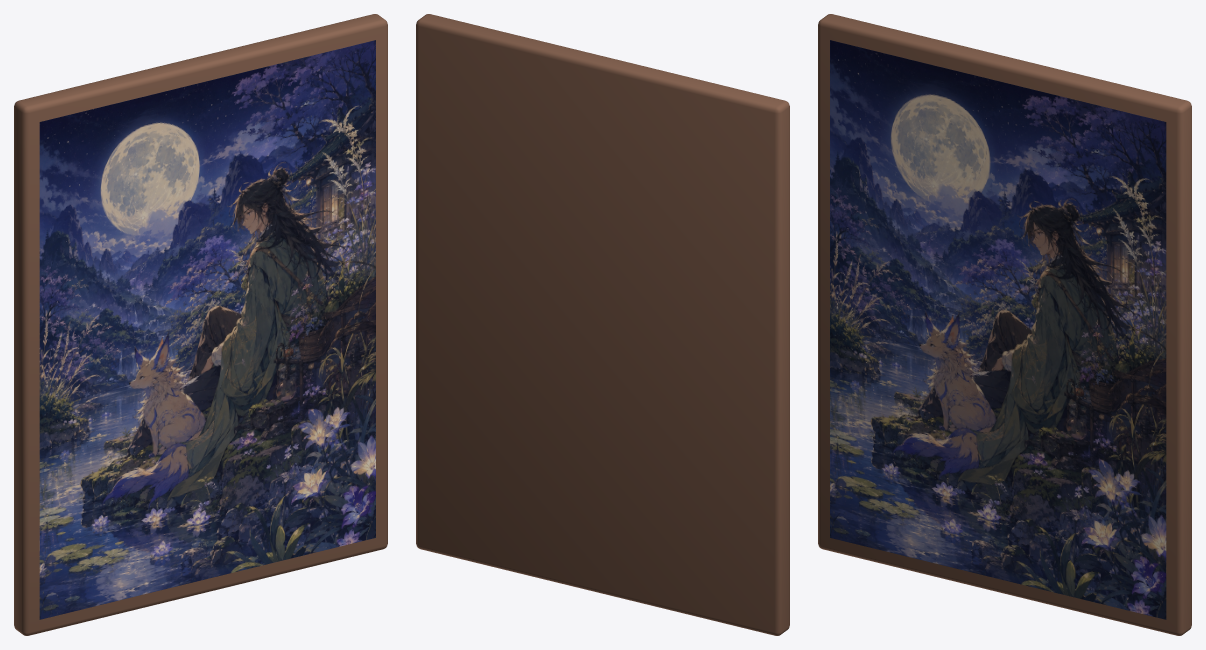
The model's file is anime-moon-garden.glb.
3 renders of one model, left to right at view 1: azimuth 30°, elevation 25°; view 2: azimuth 150°, elevation 25°; view 3: azimuth 330°, elevation 25°, orthographic.
Parts seen in each view (by area): view 1: anime-moon-garden; view 2: anime-moon-garden; view 3: anime-moon-garden.
Part boxes in pixels (left/top/right/bottom): anime-moon-garden: left=14, top=14, right=387, bottom=635; anime-moon-garden: left=416, top=14, right=789, bottom=635; anime-moon-garden: left=818, top=14, right=1191, bottom=635.
Bounding box in the file's own units: 0.65 × 0.9 × 0.04.
2 materials, 1 textured.
